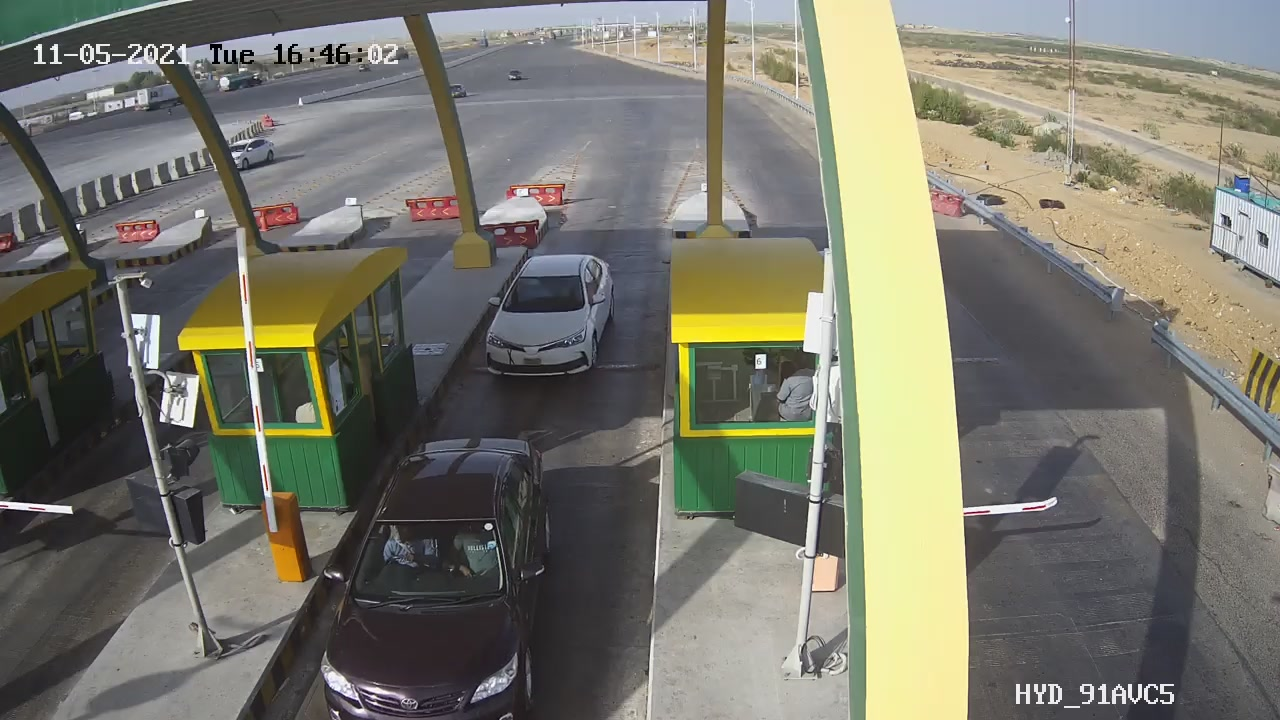F1: (465, 240, 632, 398)
